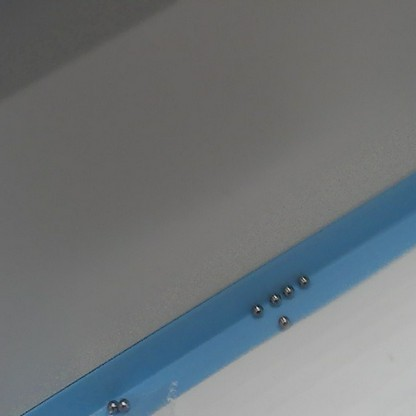ironball: (296, 271, 316, 291), (272, 312, 291, 332), (279, 280, 300, 298), (247, 301, 265, 320), (266, 290, 283, 308), (103, 399, 120, 414), (118, 395, 132, 412)
